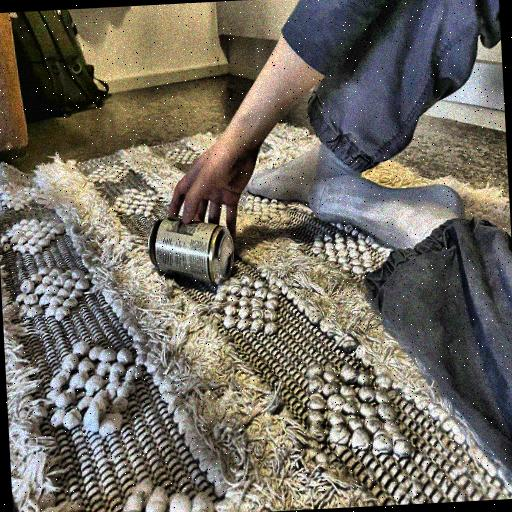sandels: (138, 211, 237, 292)
